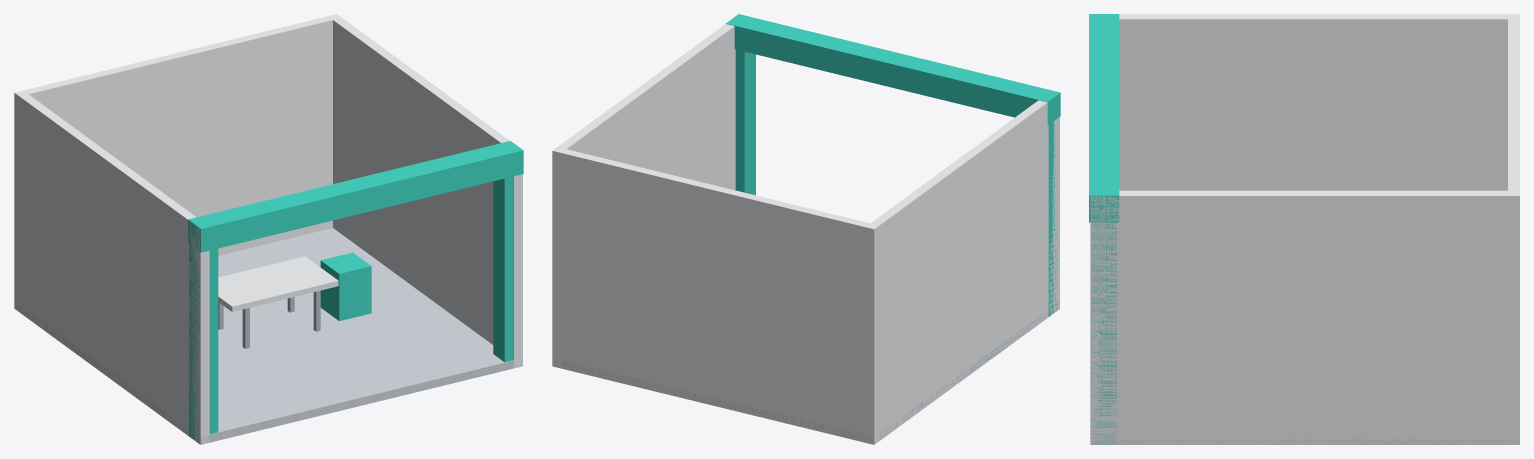
3 renders of one model, left to right at view 1: azimuth 30°, elevation 25°; view 2: azimuth 150°, elevation 25°; view 3: azimuth 270°, elevation 25°, orthographic. The views are drawn at different scales.
Visible parts, largest first — view 1: Exhibition Booth Concept; view 2: Exhibition Booth Concept; view 3: Exhibition Booth Concept.
Part boxes in pixels (x1,y1,x2,y2): Exhibition Booth Concept: [14, 14, 523, 444]; Exhibition Booth Concept: [552, 14, 1060, 444]; Exhibition Booth Concept: [1089, 14, 1519, 444].
Bounding box in the file's own units: 5 × 3.2 × 5.02.
